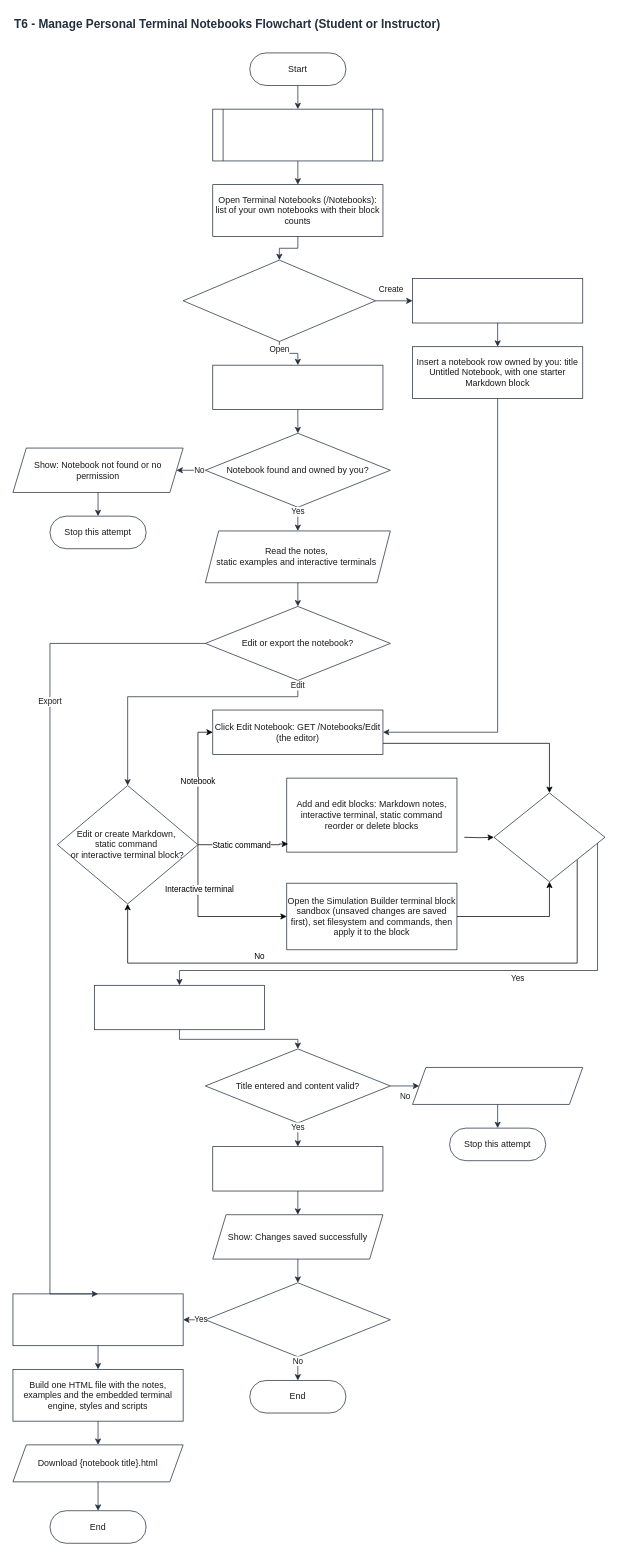
The diagram is 624 pixels wide and 1556 high, and some of its shapes have lost their labels. The shapes that lost their labels are listed below. From the top down, each one's centre as x and y in pixels, then its label:
At [297,134]: "Sign in as a Student or an Instructor Follow (GA5) and (GA11)".
At [279,300]: "Create a new notebook or open an existing one?".
At [497,300]: "Click + (Create New Notebook): POST /Notebooks/Create".
At [297,387]: "Open the notebook: GET /Notebooks/View (reader mode)".
At [549,837]: "done editing?".
At [179,1007]: "Click Save Notebook: POST /Notebooks/Save (title and content)".
At [497,1085]: "Show the Save failed message".
At [297,1168]: "Update the notebook row: title, content and updated time".
At [97,1319]: "Click Export Standalone HTML: GET /Notebooks/Export (the last saved version)".
At [297,1319]: "Export for offline use?".
